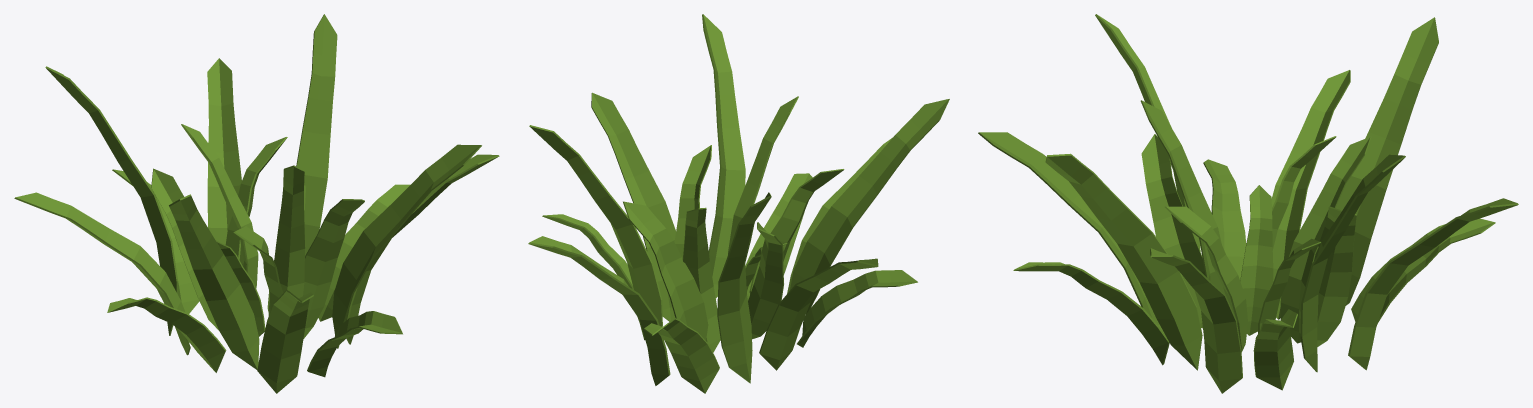
File: MidBigPatch.fbx
3 renders of one model, left to right at view 1: azimuth 30°, elevation 25°; view 2: azimuth 150°, elevation 25°; view 3: azimuth 270°, elevation 25°, orthographic. The views are drawn at different scales.
Visible parts, largest first — view 1: mid big patch; view 2: mid big patch; view 3: mid big patch.
Boxes of the visible parts, <box> form: mid big patch: <box>14,14,499,393</box>; mid big patch: <box>528,14,949,393</box>; mid big patch: <box>978,14,1518,393</box>.
Size of the model in its own units: 273 by 243 by 153.
